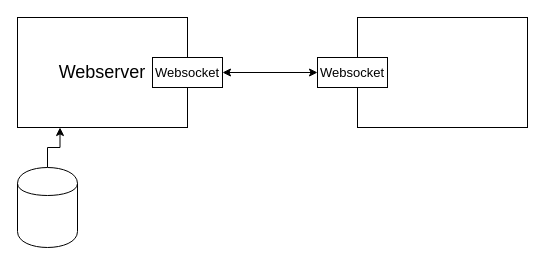
The diagram is 545 pixels wide and 265 high, and some of its shapes have lost their labels. Here are the shapes that lost their labels. From the top down, the centre of each, then its label:
At (442,72): "Client".
At (47,207): "MSQL DB".
